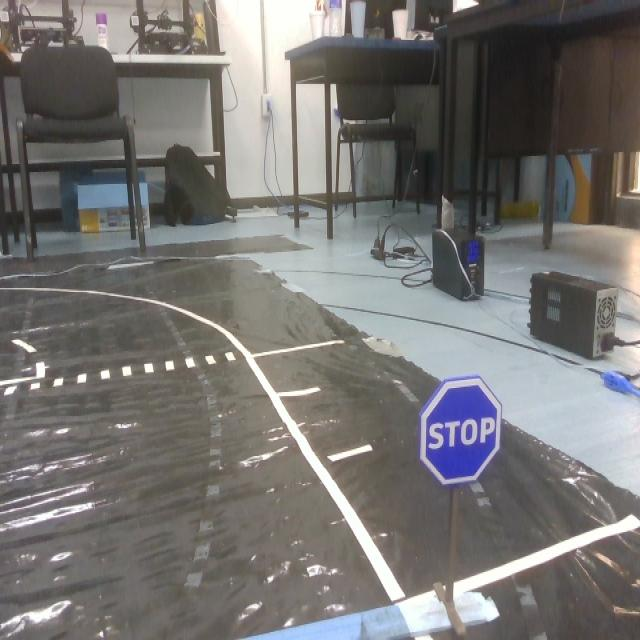no_entry: (425, 374, 503, 490)
